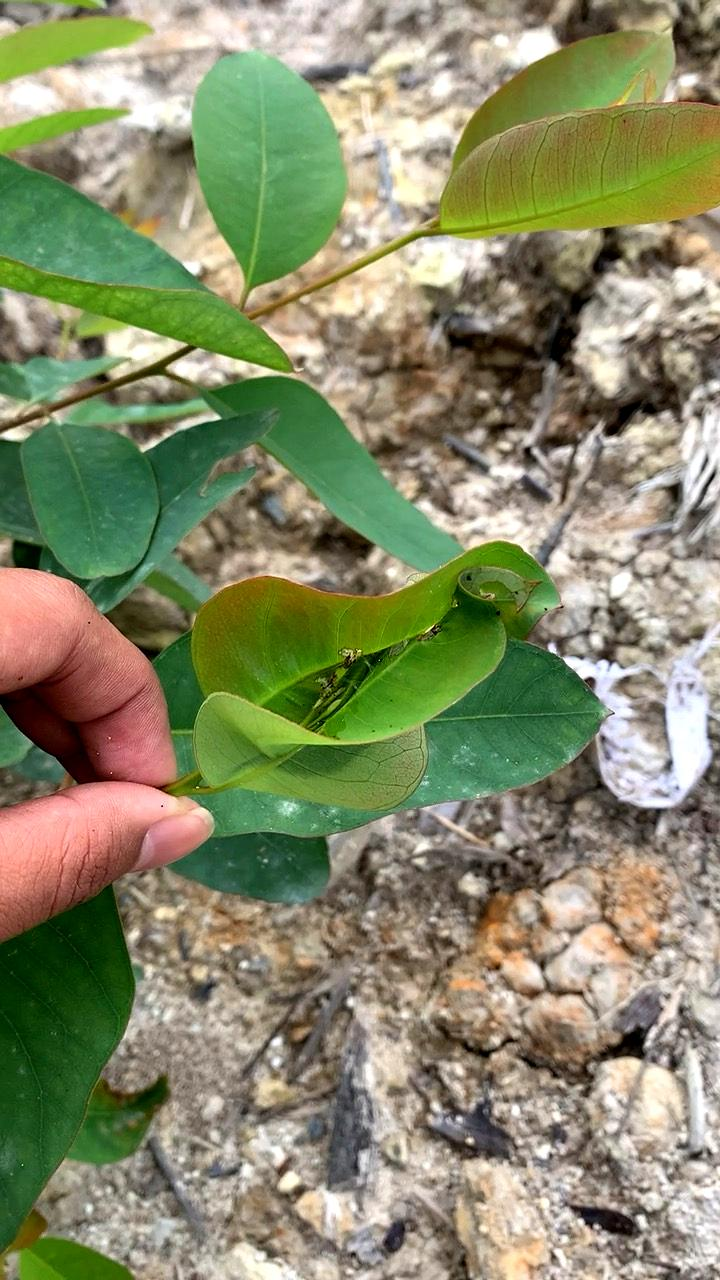Leaf Roller - Leaf: (129, 533, 585, 802)
